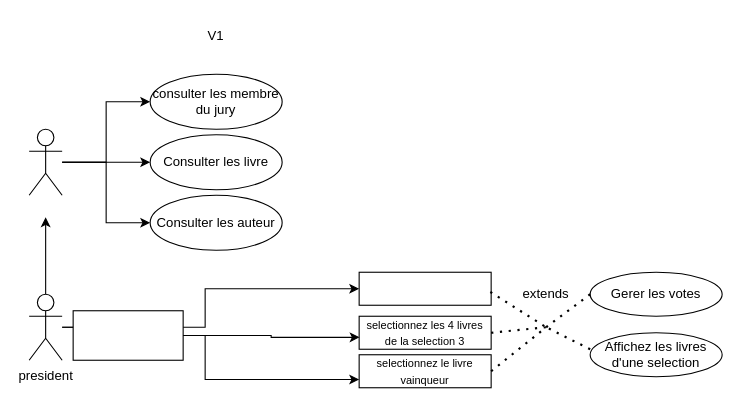
The diagram is 741 pixels wide and 407 high, and some of its shapes have lost their labels. The box of each missing label's shape, as (x1, y1, x2, y2) in pixels:
Gerer le processus de selection: (72, 310, 183, 360)
selctionnez les 8 livre de la selection 2: (358, 271, 491, 305)
user: (28, 128, 62, 195)
